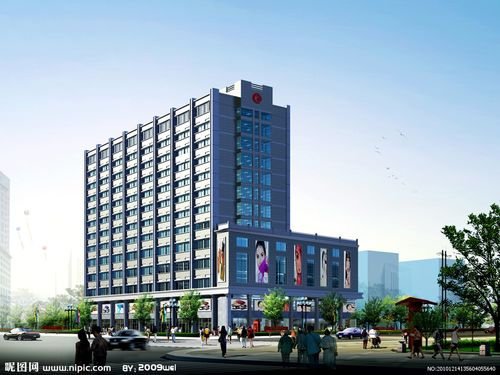buildings: (71, 93, 315, 325), (218, 84, 300, 259)
